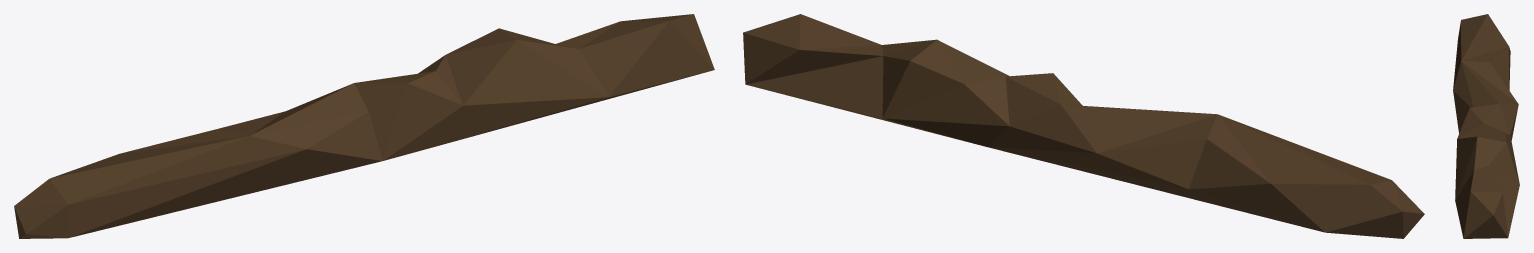
File: MCastle_DirtBoarder_Small_01.FBX
The picture shows the model from 3 angles, left to right: view 1: azimuth 30°, elevation 25°; view 2: azimuth 150°, elevation 25°; view 3: azimuth 270°, elevation 25°; orthographic projection. The views are drawn at different scales.
Visible parts, largest first — view 1: MCastle_DirtBoarder_Small_01_LOD0; view 2: MCastle_DirtBoarder_Small_01_LOD0; view 3: MCastle_DirtBoarder_Small_01_LOD0.
Part boxes in pixels (box(x1,y1,x2,y2)): MCastle_DirtBoarder_Small_01_LOD0: box(14, 14, 714, 238); MCastle_DirtBoarder_Small_01_LOD0: box(743, 14, 1424, 238); MCastle_DirtBoarder_Small_01_LOD0: box(1453, 14, 1519, 238).
Size of what is drawn, in the model's own units: 2 by 0.2314 by 0.262.
